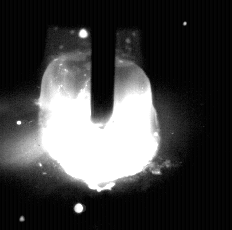arame: (91, 0, 116, 129)
poca: (38, 0, 161, 230)
